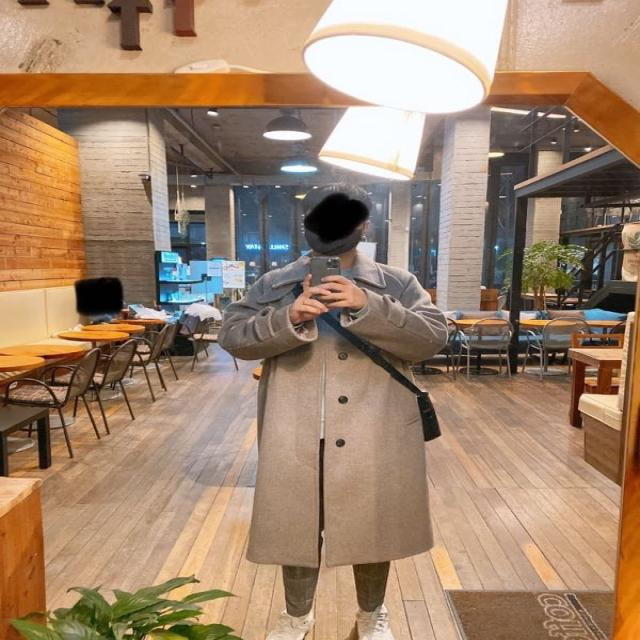coat: (216, 247, 448, 569)
